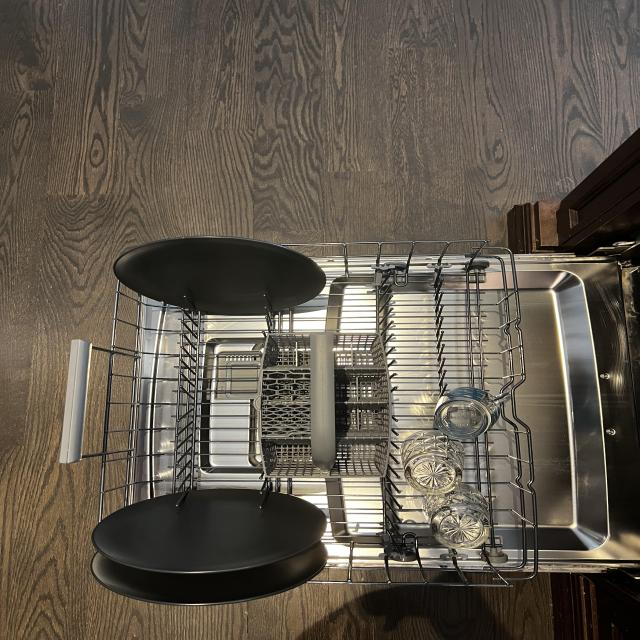Glass: (423, 487, 491, 550), (400, 432, 463, 496), (432, 387, 502, 439)
Plate: (88, 488, 327, 573), (112, 235, 328, 316)
